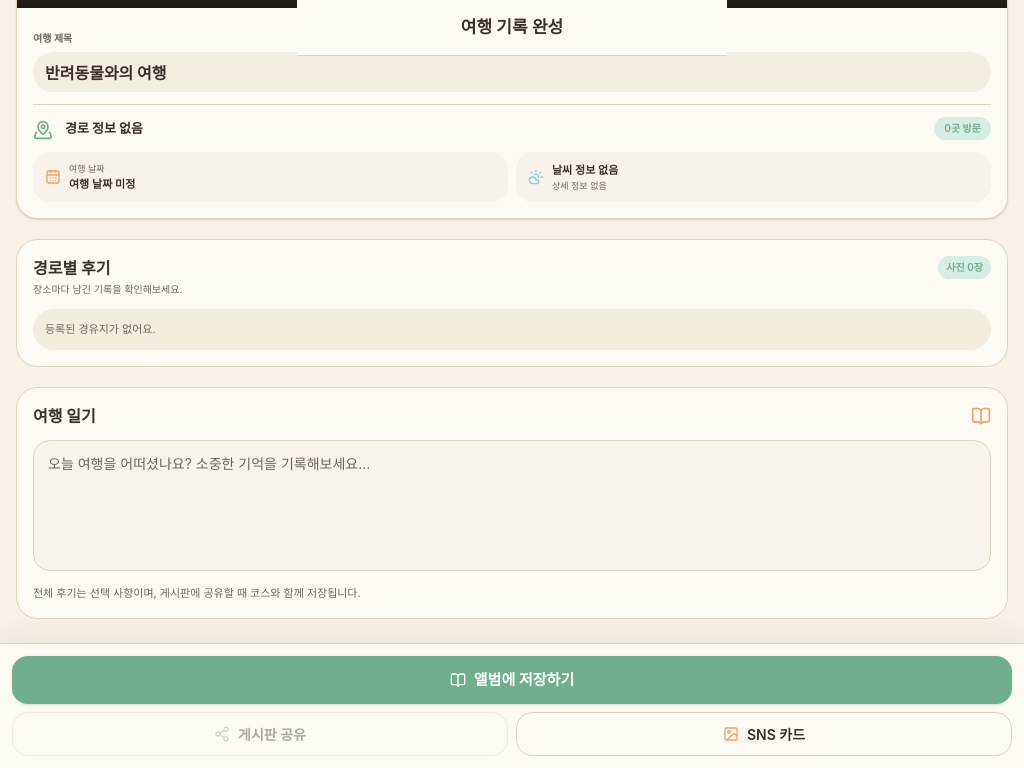
Scenario: TripEndScreen travel summary › passes the overall review to the board share flow
Later steps or results of the test are not shown.
(page scrolled)
Expected: the button "게시판 공유" is disabled, [12,712,508,756]
Type "골든이와 함께해서 즐거운 여행이었어요." into the text box with placeholder "오늘 여행을 어떠셨나요? 소중한 기억을 기록해보세요..." at (512, 505), box [33,440,991,570]
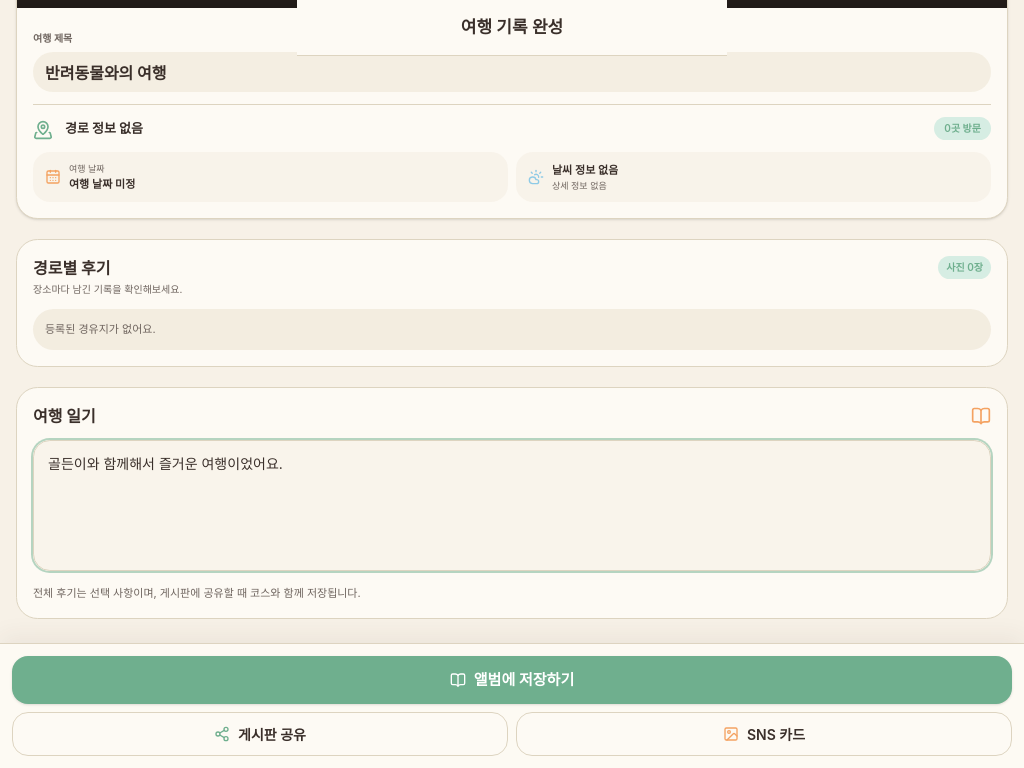
Now the button "게시판 공유" is enabled, box [12,712,508,756]
